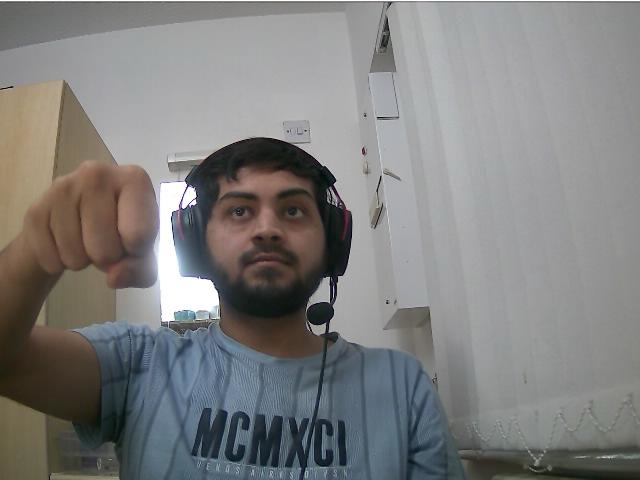hold: (19, 158, 159, 294)
